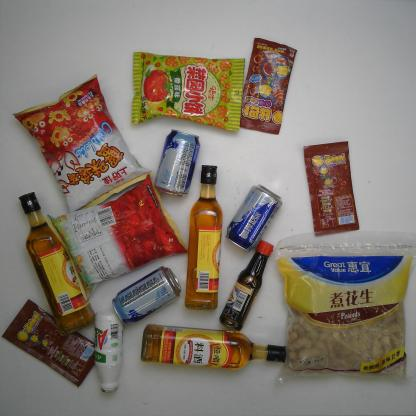Alcohol: (110, 266, 182, 326), (225, 184, 283, 250), (154, 127, 202, 195)
Candy: (1, 298, 102, 388), (302, 139, 365, 238), (237, 34, 297, 136)
Dried Food: (276, 231, 415, 388)
Milk: (92, 310, 124, 394)
Puffed Food: (12, 73, 152, 212), (46, 175, 192, 295), (131, 48, 245, 134)
Seasoner: (19, 189, 96, 336), (140, 318, 288, 370), (186, 162, 230, 308), (220, 240, 276, 332)
